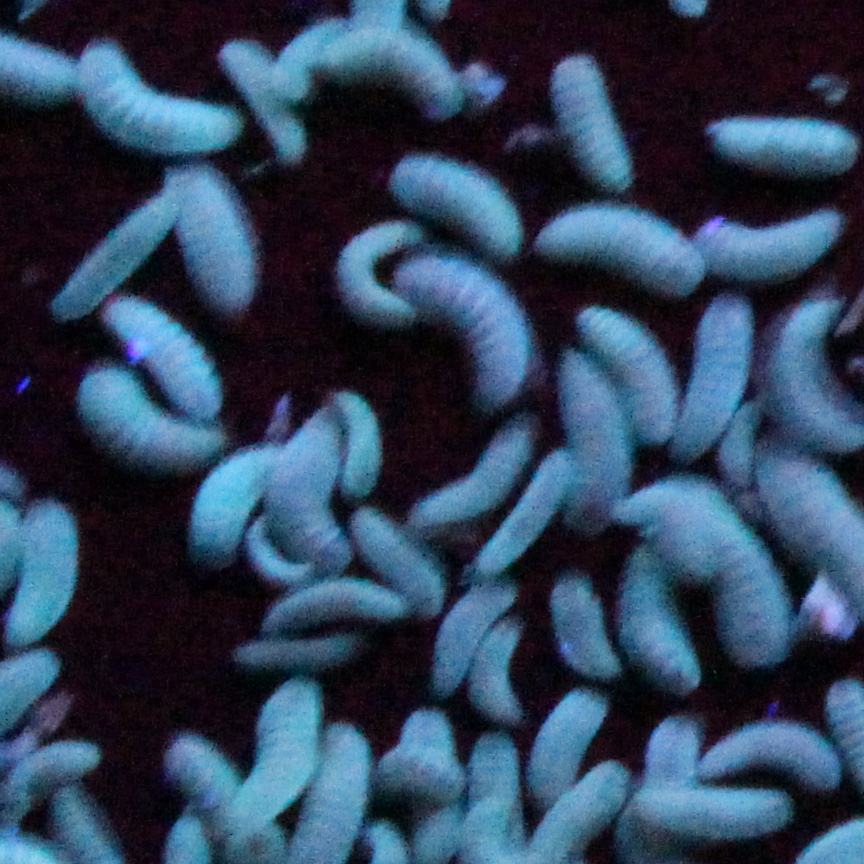larve: (84, 26, 224, 161), (290, 27, 464, 129), (410, 253, 535, 391), (72, 372, 205, 490), (528, 212, 702, 301), (542, 53, 636, 206), (755, 306, 862, 440), (559, 346, 631, 539), (168, 177, 267, 317), (703, 197, 855, 283), (384, 142, 520, 231), (705, 535, 794, 670), (709, 712, 842, 794), (612, 563, 697, 689), (404, 425, 517, 518), (17, 502, 83, 650), (679, 299, 740, 459), (284, 414, 344, 564), (538, 570, 612, 689), (379, 704, 464, 800), (325, 226, 404, 328), (259, 687, 315, 815), (232, 41, 285, 176), (71, 222, 156, 294), (651, 789, 801, 828), (630, 333, 677, 447), (252, 584, 409, 618), (168, 729, 235, 805), (222, 633, 371, 666), (205, 460, 250, 566), (489, 616, 526, 734), (342, 389, 381, 498), (135, 313, 199, 375), (365, 525, 429, 584), (513, 466, 543, 563), (443, 594, 475, 684)
